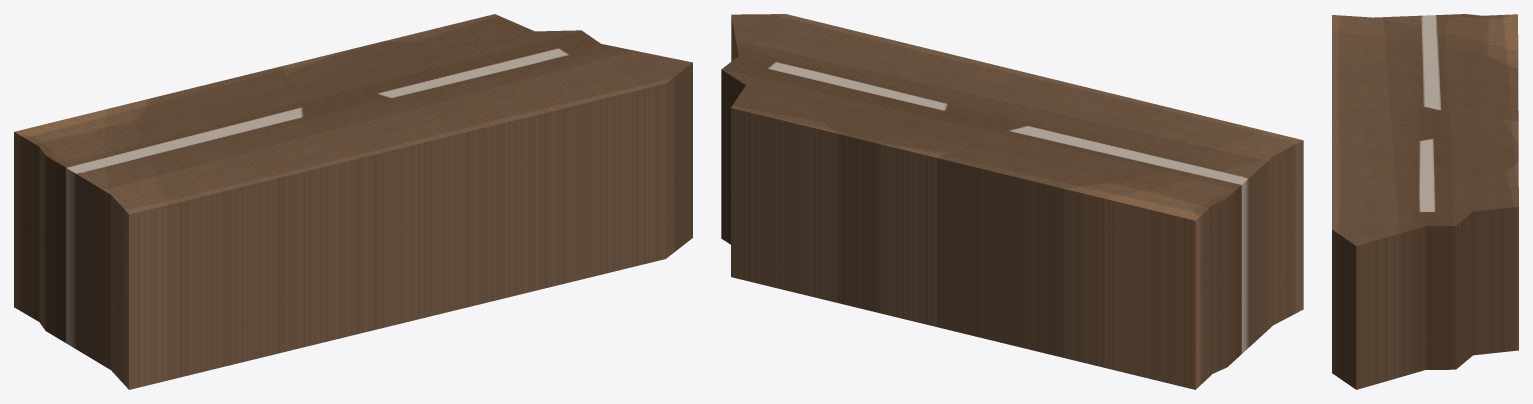
File: road_3.FBX
The picture shows the model from 3 angles, left to right: view 1: azimuth 30°, elevation 25°; view 2: azimuth 150°, elevation 25°; view 3: azimuth 270°, elevation 25°; orthographic projection. The views are drawn at different scales.
Parts seen in each view (by area): view 1: road_3; view 2: road_3; view 3: road_3.
Boxes of the visible parts, left/top/right/bottom form: road_3: left=14, top=14, right=692, bottom=389; road_3: left=721, top=14, right=1303, bottom=389; road_3: left=1332, top=14, right=1518, bottom=389.
Bounding box in the file's own units: 1386 × 400 × 471.
1 material, 1 textured.
